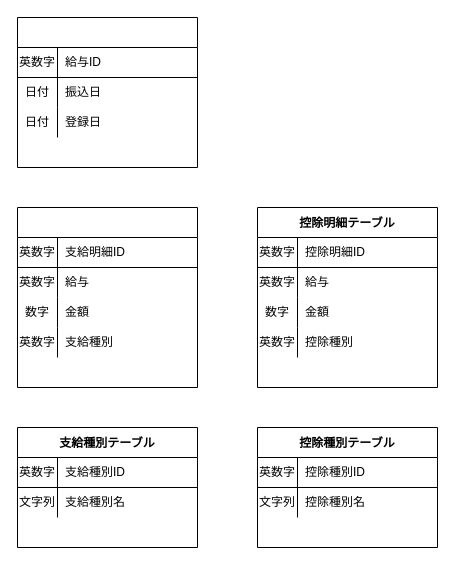
Some shapes in this 455 by 565 pixel diagram are drawn without their labels. Each missing label, with the box of its shape:
支給明細テーブル: (16, 206, 198, 388)
給与テーブル: (16, 16, 198, 168)
